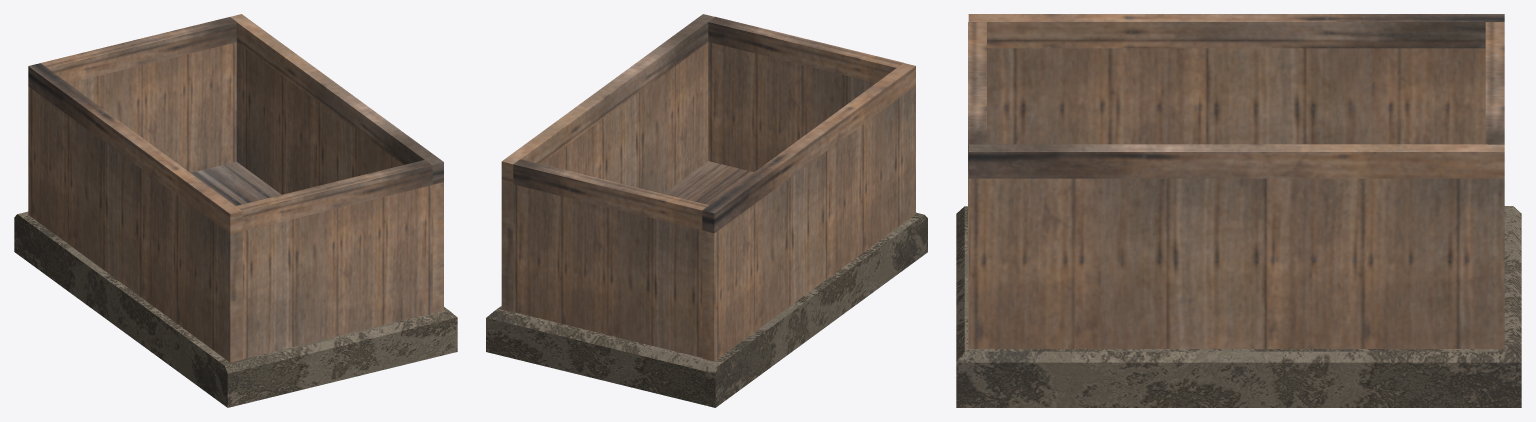
File: jov_sbath01a.fbx
The picture shows the model from 3 angles, left to right: view 1: azimuth 30°, elevation 25°; view 2: azimuth 150°, elevation 25°; view 3: azimuth 270°, elevation 25°; orthographic projection. The views are drawn at different scales.
Parts seen in each view (by area): view 1: jov_sbath01a; view 2: jov_sbath01a; view 3: jov_sbath01a.
Boxes of the visible parts, x1,y1,x2,y2 form: jov_sbath01a: (14, 14, 457, 407); jov_sbath01a: (486, 14, 927, 407); jov_sbath01a: (956, 14, 1521, 407).
Bounding box in the file's own units: 150 × 118 × 241.
